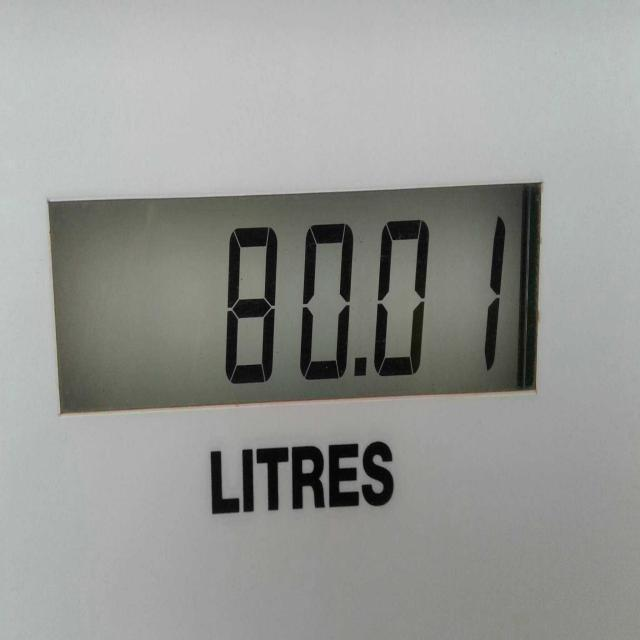.: (351, 349, 372, 392)
0: (365, 210, 441, 384), (292, 212, 358, 386)
1: (464, 203, 522, 384)
8: (204, 218, 285, 386)
